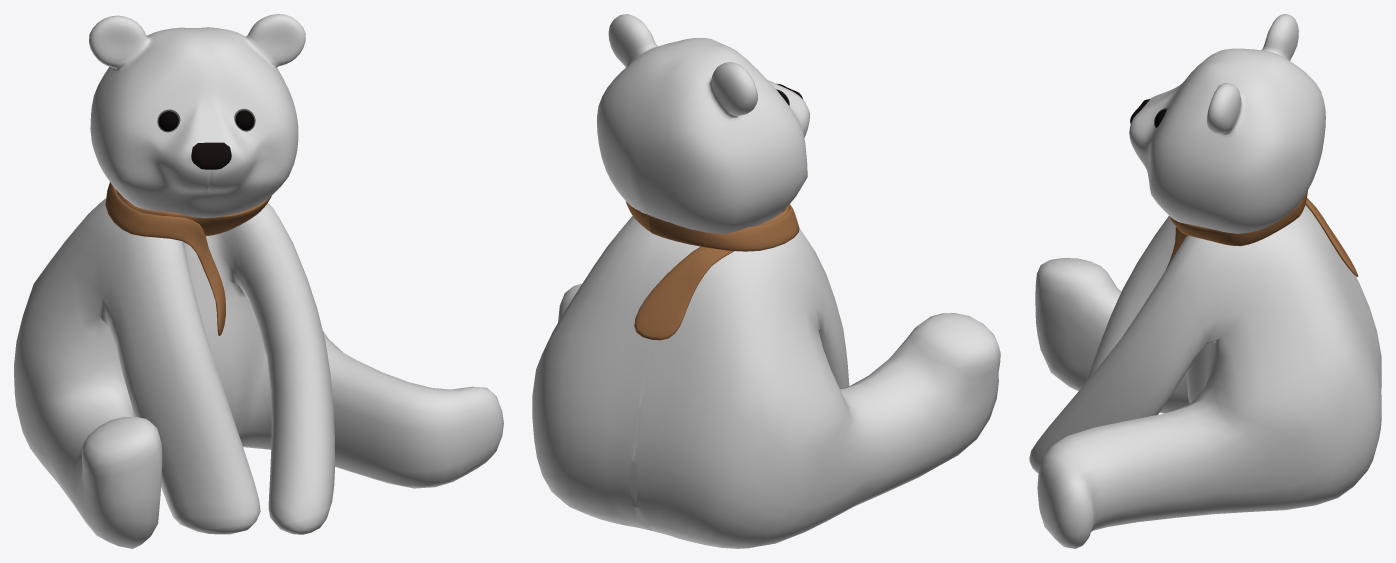
Rendered from bear.obj.
3 views of the same model, side by side, from view 1: azimuth 30°, elevation 25°; view 2: azimuth 150°, elevation 25°; view 3: azimuth 270°, elevation 25° (orthographic). The views are drawn at different scales.
Visible parts, largest first — view 1: Group_001, Head_001, Head_002, Scarf_001; view 2: Group_001, Head_001, Head_002, Scarf_001; view 3: Group_001, Head_002, Head_001, Scarf_001.
Boxes of the visible parts, box(x1,y1,x2,y2) form: Group_001: box(14, 198, 503, 548); Head_001: box(89, 15, 210, 217); Head_002: box(195, 14, 305, 217); Scarf_001: box(105, 182, 271, 335); Group_001: box(532, 216, 1000, 548); Head_001: box(632, 43, 809, 233); Head_002: box(597, 14, 777, 213); Scarf_001: box(626, 201, 799, 340); Group_001: box(1029, 205, 1381, 548); Head_002: box(1129, 58, 1312, 233); Head_001: box(1147, 14, 1325, 200); Scarf_001: box(1166, 190, 1357, 276).
Bounding box in the file's own units: 166 × 171 × 127.
